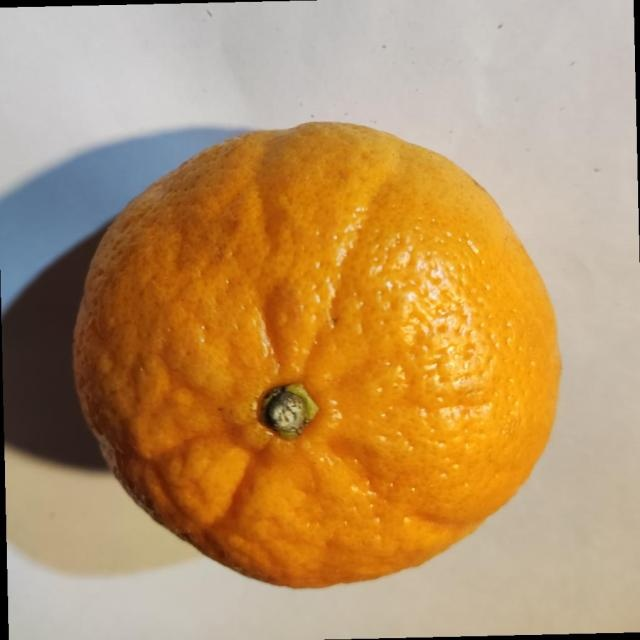agrume: (71, 119, 563, 590)
